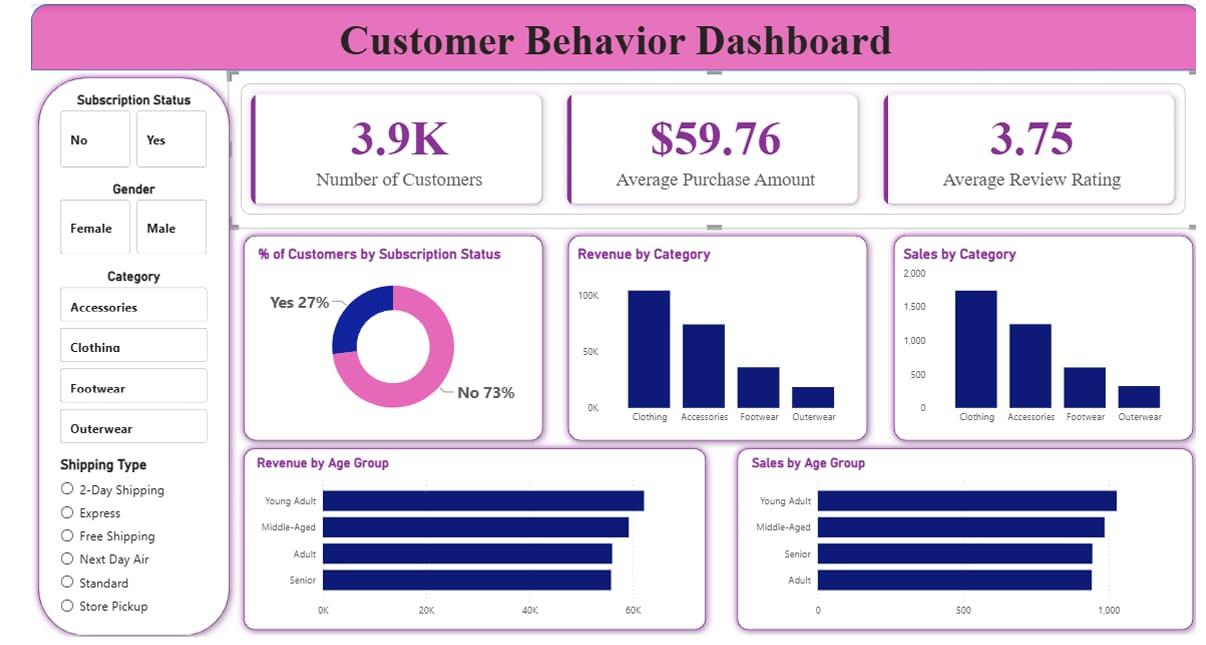

The dashboard page shown, as its layout file describes it:
{"tool":"powerbi","page":{"name":"Page 1","canvas":[1500,820],"ordinal":0},"visuals":[{"type":"cardVisual","fields":{"Data":["public customer.Number of Customers","public customer.Average Purchase Amount","public customer.Average Review Rating"]},"box":[252.5,85.2,1247.9,202.6],"z":0},{"type":"shape","box":[0,0,1500.3,85.2],"z":1000},{"type":"textbox","box":[0,11.3,1500.3,74],"z":2000},{"type":"shape","box":[263.7,287.8,402,281.4],"z":3000},{"type":"donutChart","title":"% of Customers by Subscription Status","fields":{"Category":["public customer.subscription_status"],"Y":["CountNonNull(public customer.customer_id)"]},"box":[286.2,310.4,357,238],"z":4000},{"type":"shape","box":[1098.3,287.8,402,281.4],"z":5000},{"type":"shape","box":[680.2,287.8,402,281.4],"z":6000},{"type":"clusteredColumnChart","title":"Revenue by Category","fields":{"Category":["public customer.category"],"Y":["Sum(public customer.purchase_amount)"]},"box":[696.3,310.4,369.9,238],"z":7000},{"type":"clusteredColumnChart","title":"Sales by Category","fields":{"Category":["public customer.category"],"Y":["CountNonNull(public customer.customer_id)"]},"box":[1114.4,310.4,369.9,238],"z":8000},{"type":"shape","box":[0,85.2,263.7,734.9],"z":9000},{"type":"advancedSlicerVisual","title":"Subscription Status","fields":{"Values":["public customer.subscription_status"]},"box":[32.2,112.6,199.4,102.9],"z":10000},{"type":"advancedSlicerVisual","title":"Gender","fields":{"Values":["public customer.gender"]},"box":[32.2,226.7,199.4,99.7],"z":11000},{"type":"advancedSlicerVisual","title":"Category","fields":{"Values":["public customer.category"]},"box":[32.2,339.3,199.4,230],"z":12000},{"type":"listSlicer","title":"Shipping Type","fields":{"Values":["public customer.shipping_type"]},"box":[32.2,580.5,199.4,212.3],"z":13000},{"type":"shape","box":[263.7,561.2,611.1,250.9],"z":15000},{"type":"clusteredBarChart","title":"Revenue by Age Group","fields":{"Category":["public customer.age_group"],"Y":["Sum(public customer.purchase_amount)"]},"box":[284.6,578.9,569.3,217.1],"z":16000},{"type":"shape","box":[897.3,561.2,603,250.9],"z":16003},{"type":"clusteredBarChart","title":"Sales by Age Group","fields":{"Category":["public customer.age_group"],"Y":["CountNonNull(public customer.customer_id)"]},"box":[919.8,578.9,558,217.1],"z":16004}]}

Visuals, with their boxes in screenshot pixels (x1, y1, x2, y2), scaled from the page's 1500x820 canvas onto the 1206x645 screenshot:
cardVisual - public customer.Number of Customers x public customer.Average Purchase Amount: locate(203, 67, 1205, 226)
shape: locate(0, 0, 1205, 67)
textbox: locate(0, 9, 1205, 67)
shape: locate(212, 226, 535, 448)
"% of Customers by Subscription Status" donutChart: locate(230, 244, 517, 431)
shape: locate(883, 226, 1205, 448)
shape: locate(547, 226, 870, 448)
"Revenue by Category" clusteredColumnChart: locate(560, 244, 857, 431)
"Sales by Category" clusteredColumnChart: locate(896, 244, 1193, 431)
shape: locate(0, 67, 212, 644)
"Subscription Status" advancedSlicerVisual: locate(26, 89, 186, 170)
"Gender" advancedSlicerVisual: locate(26, 178, 186, 257)
"Category" advancedSlicerVisual: locate(26, 267, 186, 448)
"Shipping Type" listSlicer: locate(26, 457, 186, 624)
shape: locate(212, 441, 703, 639)
"Revenue by Age Group" clusteredBarChart: locate(229, 455, 687, 626)
shape: locate(721, 441, 1205, 639)
"Sales by Age Group" clusteredBarChart: locate(740, 455, 1188, 626)
